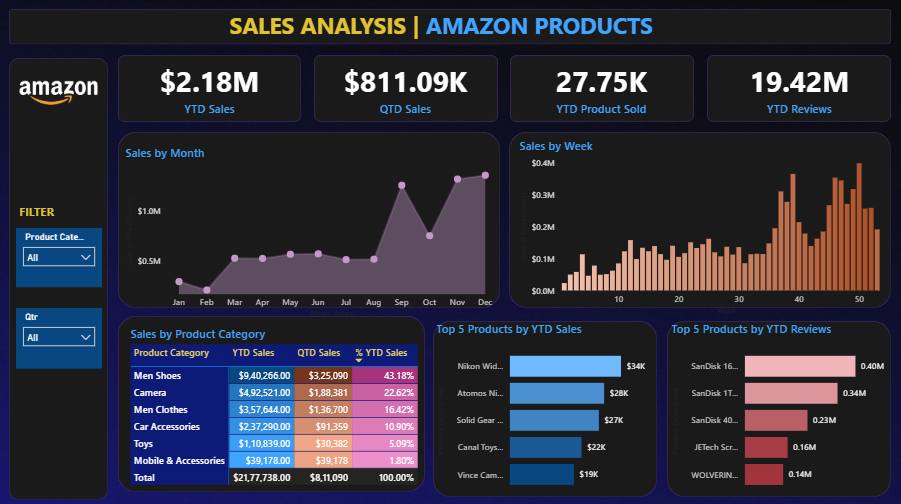

This screenshot's page, from the dashboard's own definition file:
{"tool":"powerbi","page":{"name":"Page 1","canvas":[1280,720],"ordinal":0},"visuals":[{"type":"shape","box":[170.1,79.4,259.4,95],"z":0,"group":"g1"},{"type":"shape","box":[15.6,14.2,1250.1,50],"z":0},{"type":"card","fields":{"Values":["Amazon_Data.YTD Sales"]},"box":[170.1,79.4,259.4,95],"z":1000,"group":"g1"},{"type":"textbox","box":[323.1,9.9,635,58.1],"z":1000},{"type":"shape","box":[447.4,79.4,260.8,95],"z":2000,"group":"g1"},{"type":"shape","box":[170.1,188.5,541.4,249.4],"z":2000},{"type":"shape","box":[726.2,79.4,260.8,95],"z":3000,"group":"g1"},{"type":"group","id":"g1","title":"Group 1","box":[170.1,79.4,1095.6,95],"z":3000},{"type":"shape","box":[1004.9,79.4,260.8,95],"z":4000,"group":"g1"},{"type":"areaChart","title":"Sales by Month","fields":{"Category":["Date Table.Month Name"],"Y":["Sum(Amazon_Data.Price(Dollar))"]},"box":[175.7,206.9,535.7,249.4],"z":4000},{"type":"card","fields":{"Values":["Amazon_Data.QTD Sales"]},"box":[447.9,79.4,259.4,95],"z":5000,"group":"g1"},{"type":"shape","box":[170.1,449.3,435.1,249.4],"z":5000},{"type":"card","fields":{"Values":["Amazon_Data.YTD Product Sold"]},"box":[725.7,79.4,259.4,95],"z":6000,"group":"g1"},{"type":"shape","box":[724.3,188.5,541.4,249.4],"z":6000},{"type":"card","fields":{"Values":["Amazon_Data.YTD Reviews"]},"box":[1006.3,79.4,259.4,95],"z":7000,"group":"g1"},{"type":"columnChart","title":"Sales by Week","fields":{"Category":["Date Table.Week"],"Y":["Sum(Amazon_Data.Price(Dollar))"]},"box":[734.2,197,541.4,255.1],"z":7000},{"type":"shape","box":[616.5,456.4,317.5,249.4],"z":8000},{"type":"pivotTable","title":"Sales by Product Category","fields":{"Rows":["Amazon_Data.Product Category"],"Values":["Amazon_Data.YTD Sales1","Amazon_Data.QTD Sales","Amazon_Data.YTD Sales"]},"box":[182.8,463.5,422.4,235.3],"z":9000},{"type":"shape","box":[948.2,456.4,317.5,249.4],"z":10000},{"type":"clusteredBarChart","title":"Top 5 Products by YTD Sales","fields":{"Category":["Amazon_Data.Product Description"],"Y":["Amazon_Data.YTD Sales"]},"box":[616.5,456.4,317.5,253.7],"z":11000},{"type":"clusteredBarChart","title":"Top 5 Products by YTD Reviews","fields":{"Category":["Amazon_Data.Product Description"],"Y":["Amazon_Data.YTD Reviews"]},"box":[949.6,456.4,317.5,253.7],"z":12000},{"type":"shape","box":[15.6,83.6,140.3,626.5],"z":13000},{"type":"slicer","fields":{"Values":["Amazon_Data.Product Category"]},"box":[15.6,324.6,121.9,83.6],"z":14000},{"type":"slicer","fields":{"Values":["Date Table.Qtr"]},"box":[15.6,438,121.9,86.5],"z":15000},{"type":"image","box":[25.5,97.8,121.9,76.5],"z":16000},{"type":"textbox","box":[25.5,284.9,102,39.7],"z":17000}]}

Visuals, with their boxes in screenshot pixels (x1, y1, x2, y2), scaled from the page's 1280x720 canvas onto the 901x504 screenshot:
shape: locate(120, 56, 302, 122)
shape: locate(11, 10, 891, 45)
card - Amazon_Data.YTD Sales: locate(120, 56, 302, 122)
textbox: locate(227, 7, 674, 48)
shape: locate(315, 56, 499, 122)
shape: locate(120, 132, 501, 307)
shape: locate(511, 56, 695, 122)
"Group 1" group: locate(120, 56, 891, 122)
shape: locate(707, 56, 891, 122)
"Sales by Month" areaChart: locate(124, 145, 501, 319)
card - Amazon_Data.QTD Sales: locate(315, 56, 498, 122)
shape: locate(120, 315, 426, 489)
card - Amazon_Data.YTD Product Sold: locate(511, 56, 693, 122)
shape: locate(510, 132, 891, 307)
card - Amazon_Data.YTD Reviews: locate(708, 56, 891, 122)
"Sales by Week" columnChart: locate(517, 138, 898, 316)
shape: locate(434, 319, 657, 494)
"Sales by Product Category" pivotTable: locate(129, 324, 426, 489)
shape: locate(667, 319, 891, 494)
"Top 5 Products by YTD Sales" clusteredBarChart: locate(434, 319, 657, 497)
"Top 5 Products by YTD Reviews" clusteredBarChart: locate(668, 319, 892, 497)
shape: locate(11, 59, 110, 497)
slicer - Amazon_Data.Product Category: locate(11, 227, 97, 286)
slicer - Date Table.Qtr: locate(11, 307, 97, 367)
image: locate(18, 68, 104, 122)
textbox: locate(18, 199, 90, 227)
